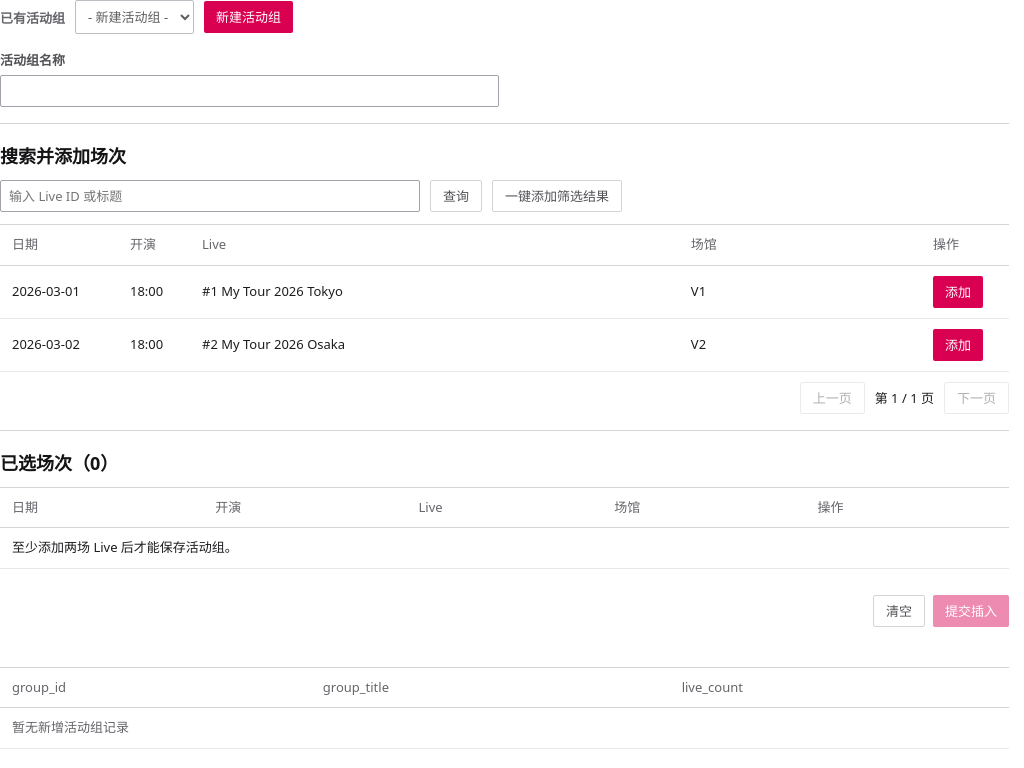
Test: PerformanceGroupAdminSection › shows confirmation dialog with computed short titles before submit
expect the text "#1 My Tour 2026 Tokyo" is shown: met, box [190,265,679,318]
Step 1. Click the button "一键添加筛选结果" → (557, 196), box [492,180,622,212]
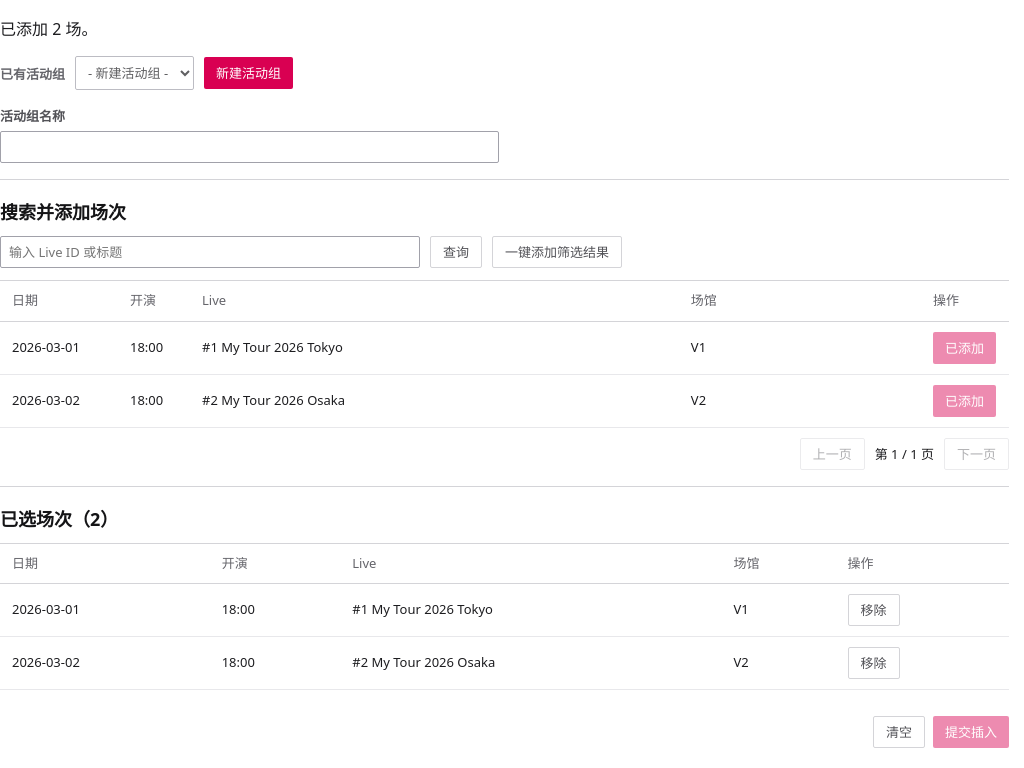
expect the text "已添加 2 场。" is shown: met, box [0,18,98,40]
Step 2. Type "My Tour 2026" into the field labelled "活动组名称" → (249, 147), box [0,131,498,163]
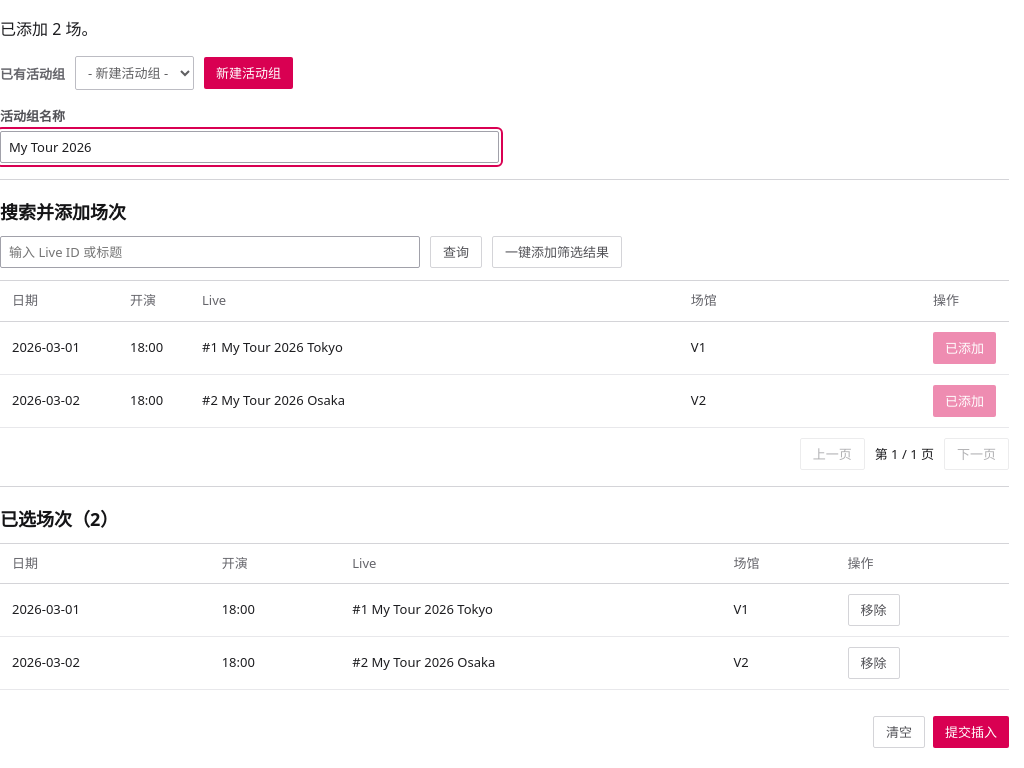
Step 3. Click the button "提交插入" → (971, 732), box [933,716,1009,748]
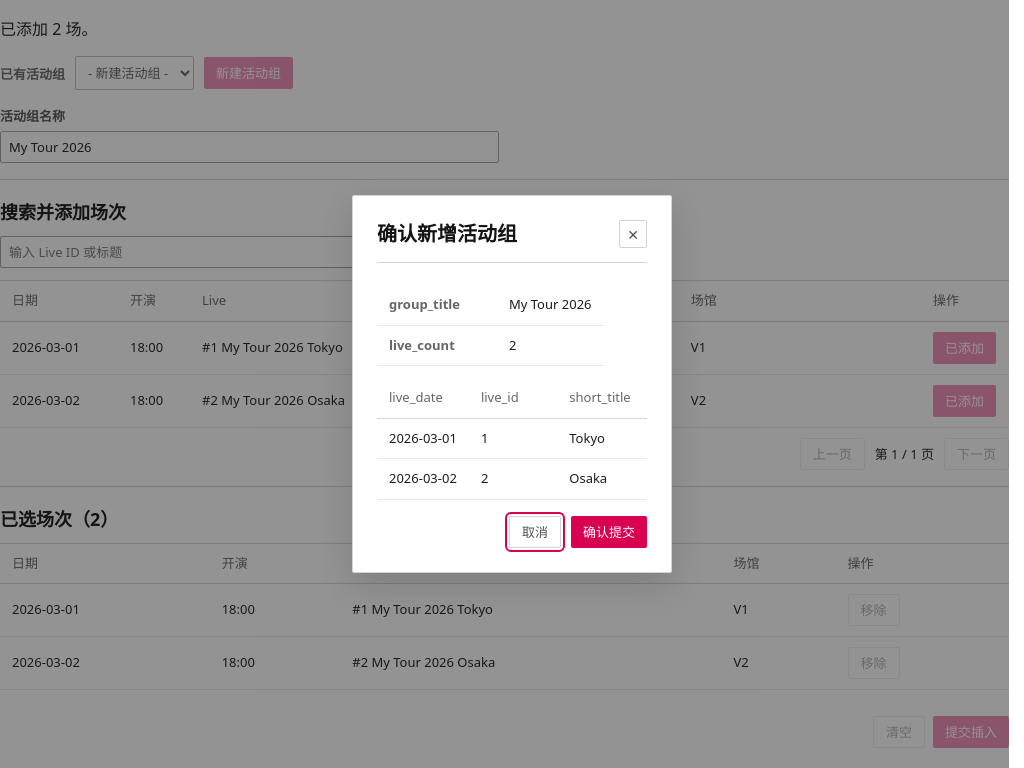
expect the text "Tokyo" is shown: met, box [557,418,647,459]
expect the text "Osaka" is shown: met, box [557,459,647,499]
